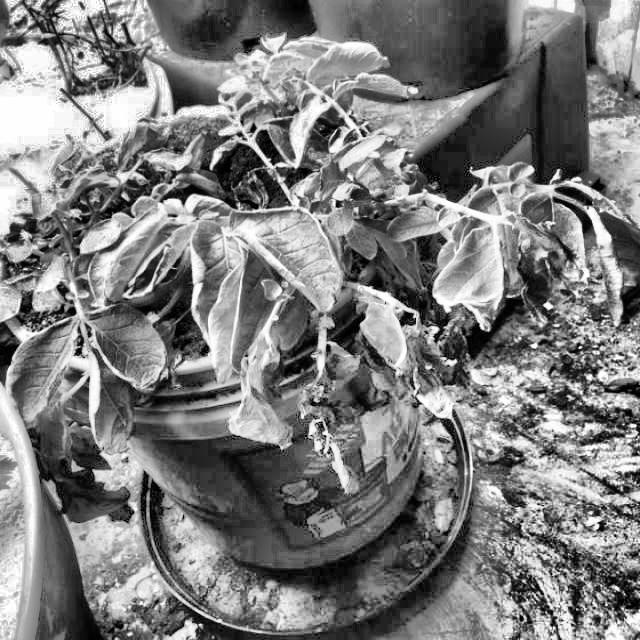plants: (7, 36, 639, 574), (18, 404, 160, 536), (225, 356, 361, 491), (366, 325, 509, 423)
